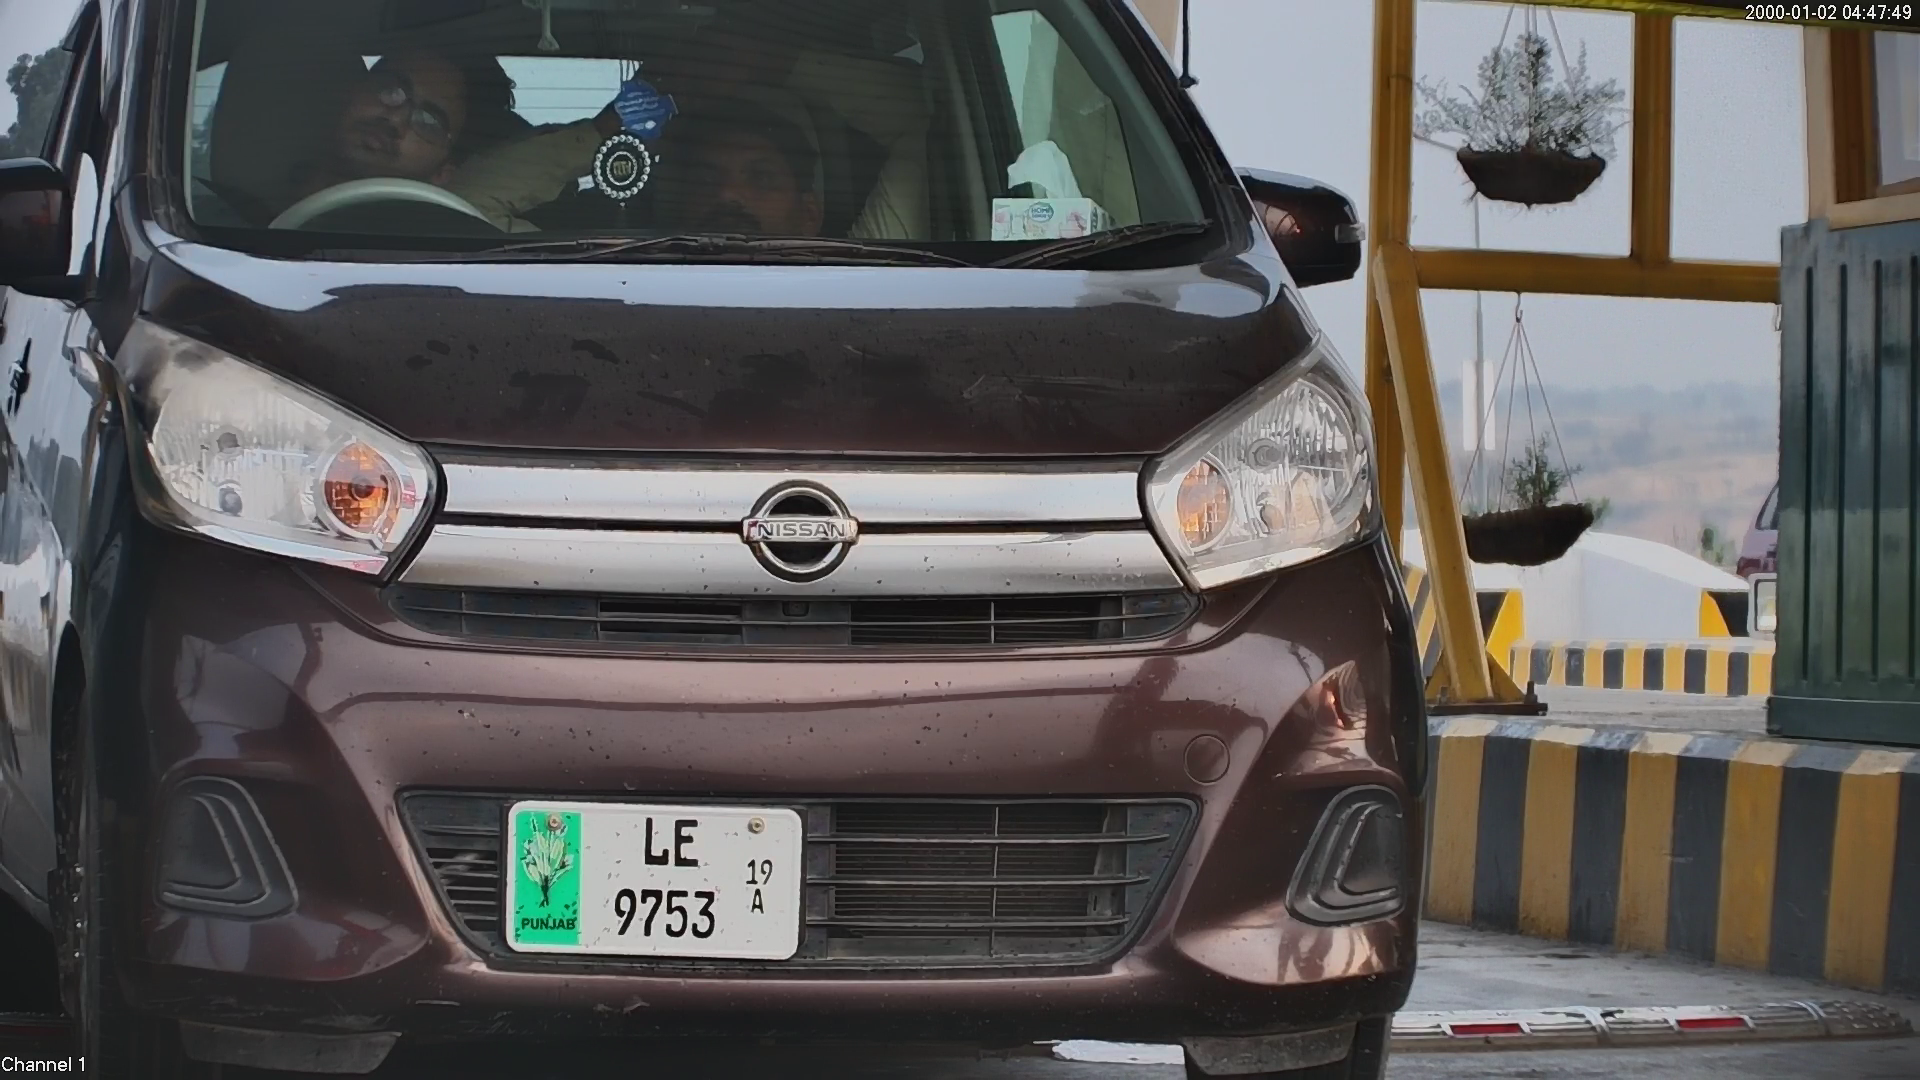Number_Plate: (491, 786, 815, 974)
